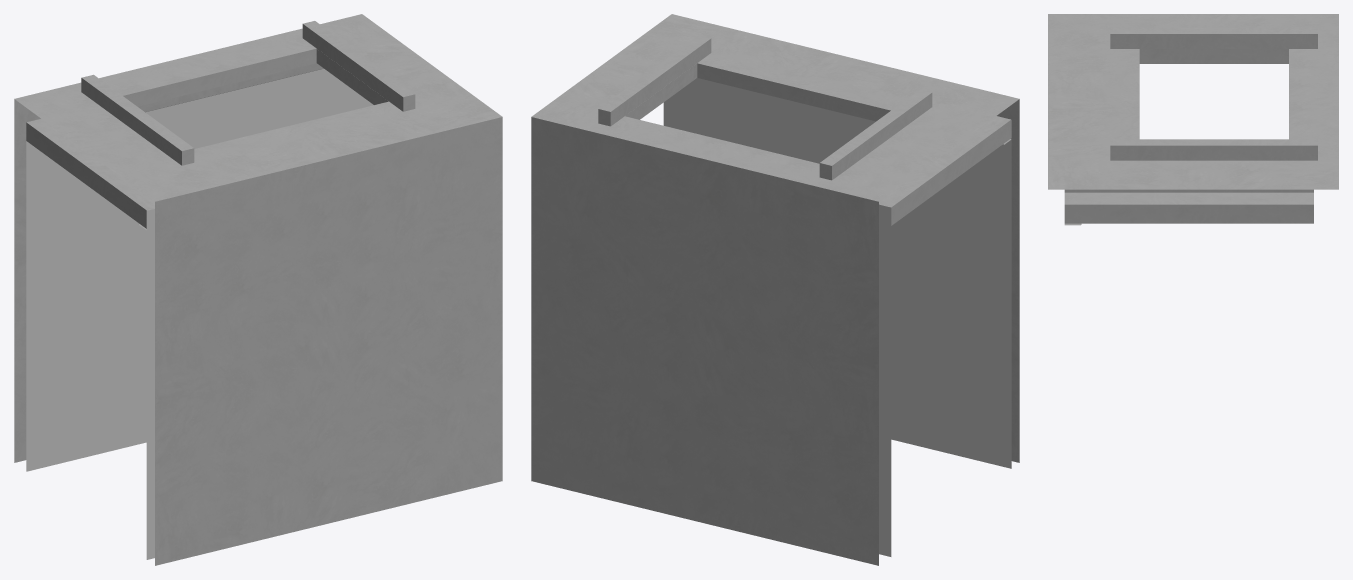
Rendered from Corridor.fbx.
3 renders of one model, left to right at view 1: azimuth 30°, elevation 25°; view 2: azimuth 150°, elevation 25°; view 3: azimuth 270°, elevation 25°, orthographic. The views are drawn at different scales.
Parts seen in each view (by area): view 1: MidSide; view 2: MidSide; view 3: MidSide.
Boxes of the visible parts, x1=… form: MidSide: x1=14, y1=14, x2=502, y2=565; MidSide: x1=531, y1=14, x2=1019, y2=565; MidSide: x1=1048, y1=14, x2=1338, y2=225.
Size of the model in its own units: 5 by 5.2 by 3.5.
